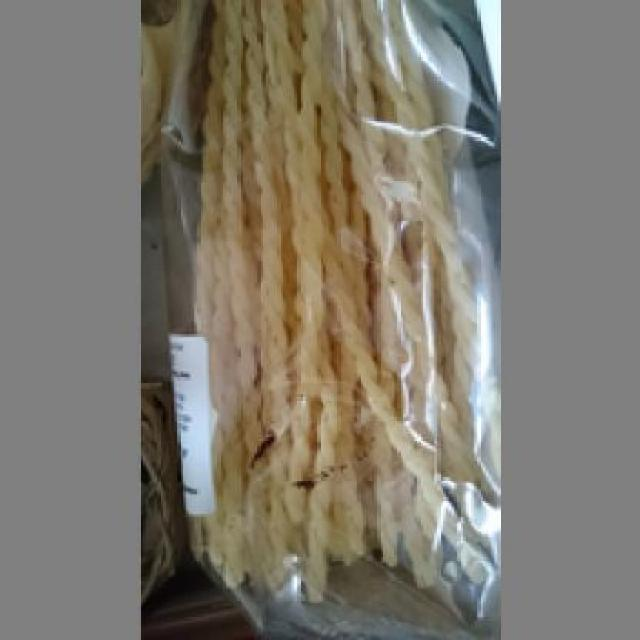Pasta: (177, 0, 492, 606)
